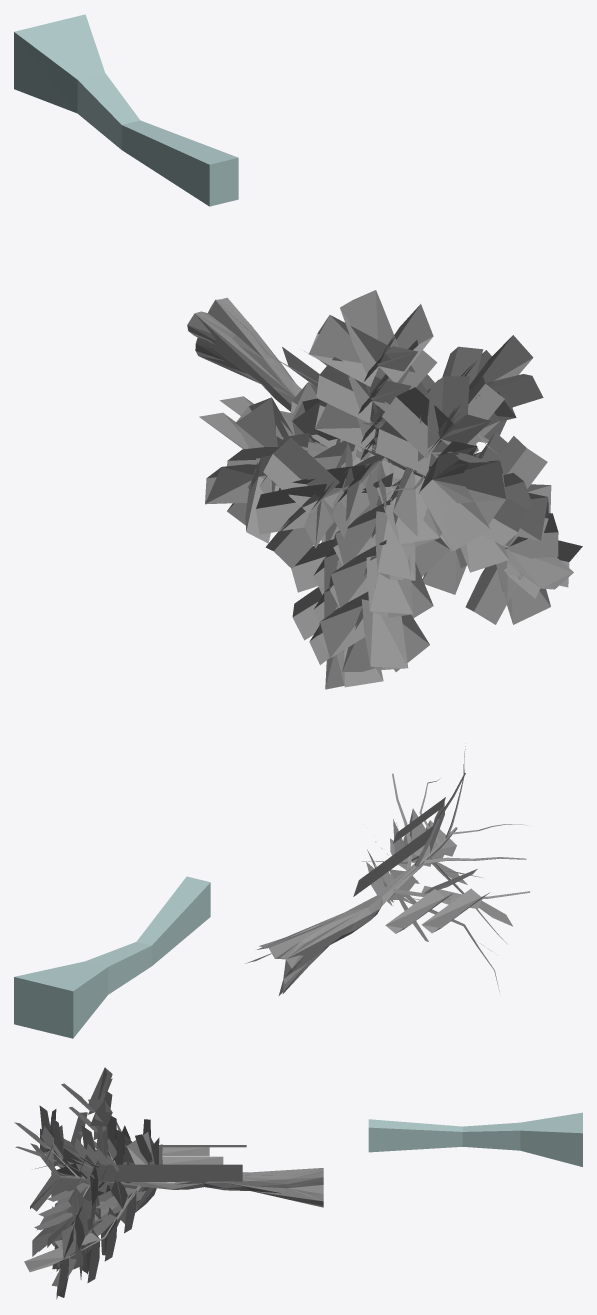
Rendered from trop_CopalTree01.glb.
The picture shows the model from 3 angles, top to bottom: view 1: azimuth 30°, elevation 25°; view 2: azimuth 150°, elevation 25°; view 3: azimuth 270°, elevation 25°; orthographic projection. The views are drawn at different scales.
Parts seen in each view (by area): view 1: geometry_0; view 2: geometry_0; view 3: geometry_0.
Boxes of the visible parts, x1,y1,x2,y2 form: geometry_0: (14,14,582,689); geometry_0: (14,746,530,1038); geometry_0: (14,1067,582,1299).
Bounding box in the file's own units: 11.7 × 12.67 × 30.
